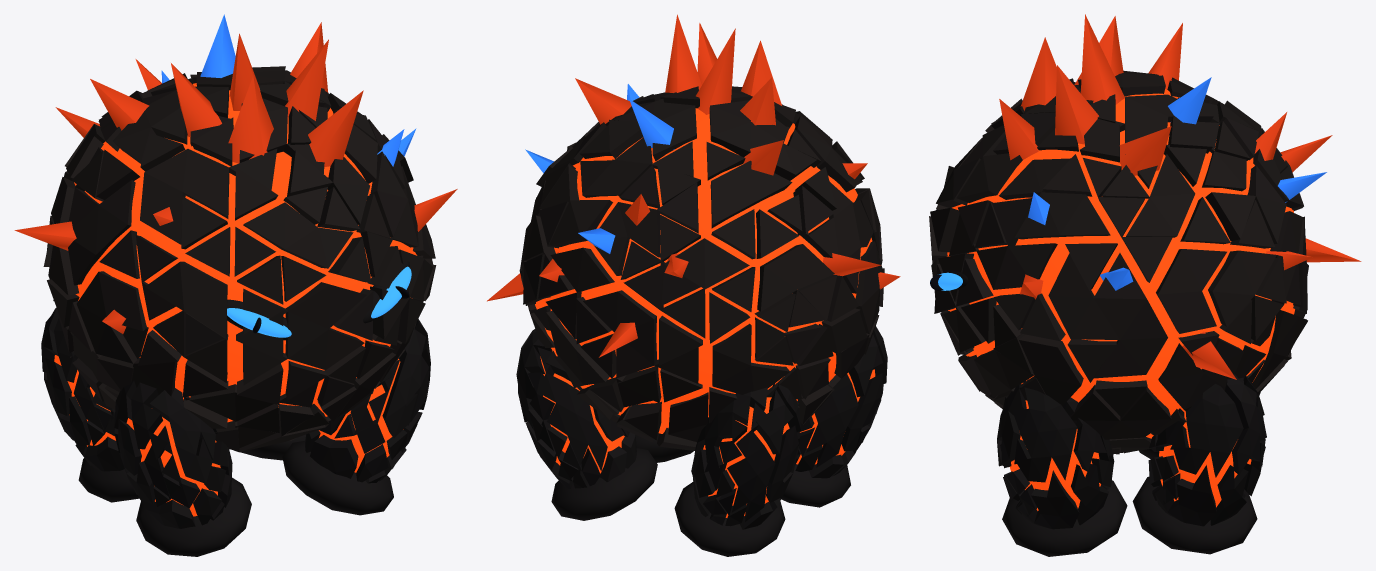
The model's file is volatile.glb.
The picture shows the model from 3 angles, left to right: view 1: azimuth 30°, elevation 25°; view 2: azimuth 150°, elevation 25°; view 3: azimuth 270°, elevation 25°; orthographic projection. The views are drawn at different scales.
Visible parts, largest first — view 1: shell_plates, limb_2_shell, molten_core, limb_1_shell, limb_4_shell, limb_1_foot, limb_2_foot, crystal_magma_8, crystal_magma_7, crystal_magma_2, crystal_magma_3, limb_4_foot (+11 smaller); view 2: shell_plates, molten_core, limb_4_shell, limb_3_shell, limb_2_shell, limb_3_foot, limb_4_foot, limb_2_foot, crystal_magma_1, crystal_magma_2, crystal_magma_5, crystal_magma_3 (+10 smaller); view 3: shell_plates, molten_core, limb_3_shell, limb_1_shell, limb_3_foot, limb_1_foot, crystal_magma_1, crystal_magma_2, crystal_magma_5, crystal_magma_8, crystal_magma_7, limb_3_seams (+9 smaller).
Boxes of the visible parts, x1,y1,x2,y2 form: shell_plates: (43,66,436,452); limb_2_shell: (114,380,232,528); molten_core: (74,83,417,422); limb_1_shell: (305,319,430,483); limb_4_shell: (41,308,124,471); limb_1_foot: (282,441,393,515); limb_2_foot: (136,477,251,556); crystal_magma_8: (228,75,273,163); crystal_magma_7: (308,90,363,166); crystal_magma_2: (285,39,328,120); crystal_magma_3: (171,63,221,136); limb_4_foot: (78,458,139,502); shell_plates: (519,86,884,450); molten_core: (535,108,872,433); limb_4_shell: (691,383,801,529); limb_3_shell: (516,329,636,488); limb_2_shell: (795,326,887,478); limb_3_foot: (551,448,657,520); limb_4_foot: (674,482,785,556); limb_2_foot: (781,464,850,507); crystal_magma_1: (696,28,735,114); crystal_magma_2: (665,14,701,92); crystal_magma_5: (575,78,631,124); crystal_magma_3: (740,77,775,125); shell_plates: (929,70,1308,454); molten_core: (947,89,1294,438); limb_3_shell: (1148,374,1266,526); limb_1_shell: (997,379,1114,529); limb_3_foot: (1132,476,1257,554); limb_1_foot: (1002,480,1127,556); crystal_magma_1: (1080,14,1124,104); crystal_magma_2: (1055,65,1098,144); crystal_magma_5: (1119,126,1171,175); crystal_magma_8: (1020,37,1056,110); crystal_magma_7: (999,99,1038,160); limb_3_seams: (1159,411,1251,507).
Size of the model in its own units: 1.22 by 1.46 by 1.18.
